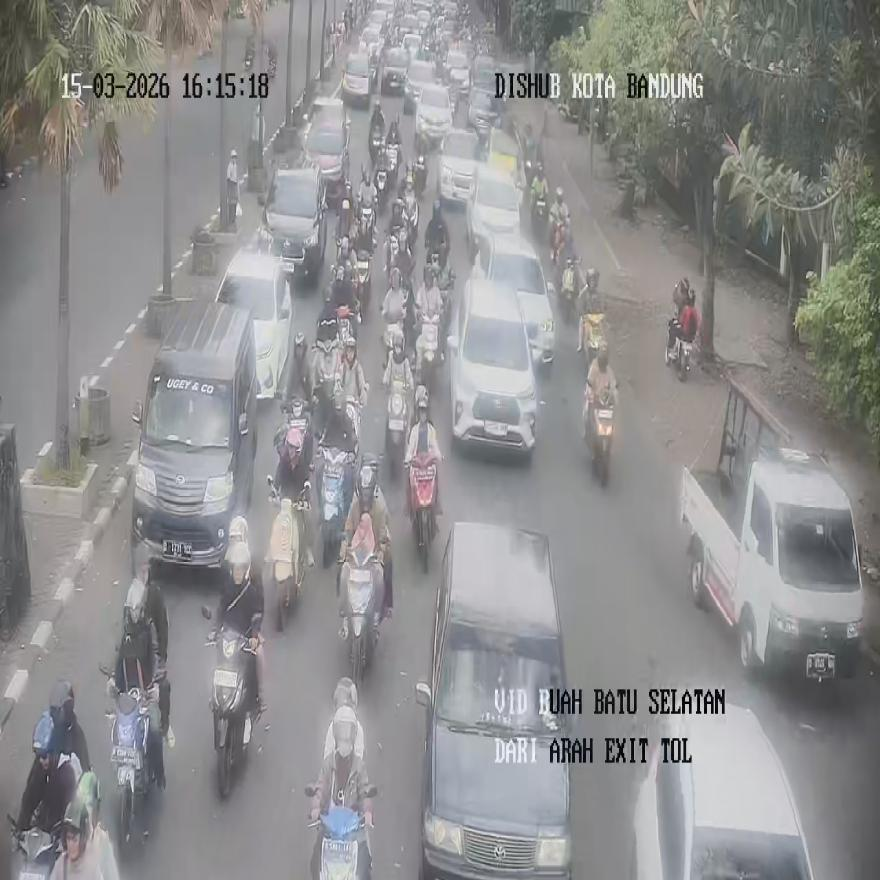Motor: (416, 520, 572, 878), (130, 298, 256, 573), (628, 702, 814, 878), (447, 272, 540, 454), (214, 247, 293, 401), (480, 230, 555, 372), (260, 161, 326, 280), (302, 98, 350, 207)
Truk: (102, 665, 162, 858), (202, 606, 261, 798), (305, 783, 377, 879), (268, 476, 311, 631), (339, 549, 384, 688), (316, 446, 354, 568), (406, 451, 440, 571), (276, 397, 314, 501), (8, 814, 61, 880), (584, 381, 614, 486), (385, 379, 409, 478), (417, 314, 440, 400), (666, 318, 692, 380), (580, 313, 605, 374), (559, 256, 577, 322), (551, 215, 568, 268), (386, 232, 401, 290), (359, 204, 375, 252), (532, 194, 546, 248), (414, 154, 428, 198)
